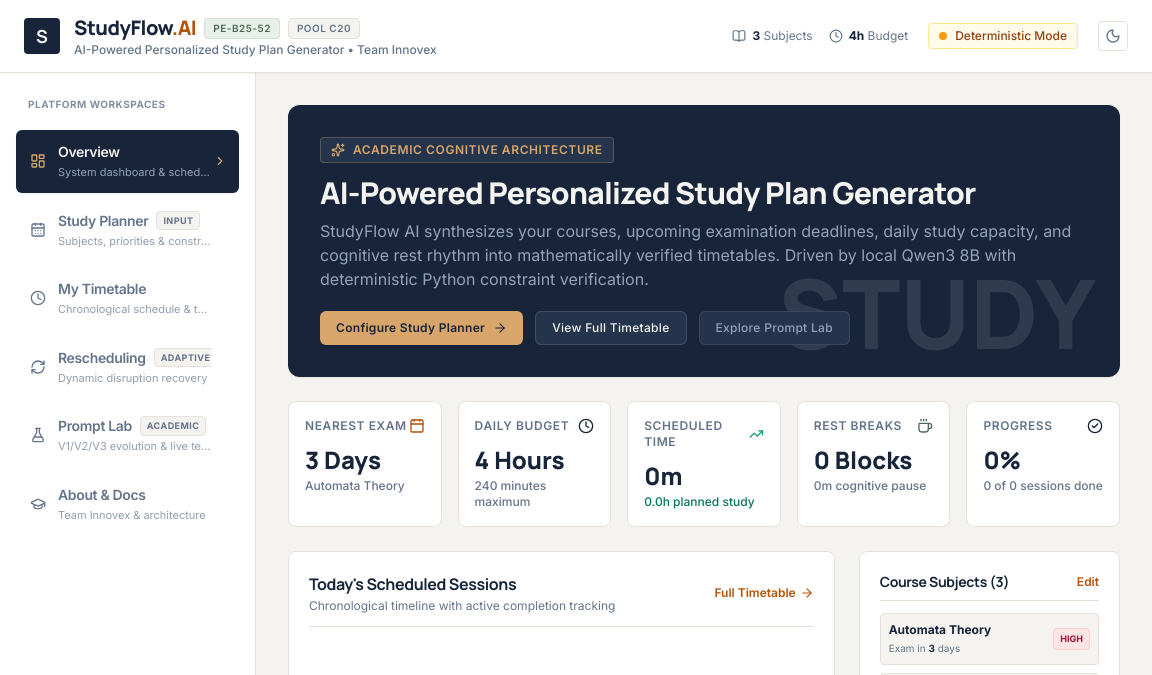
it: StudyFlow AI Application Workspaces Navigation › switches to About & Docs workspace on navigation click
Click the text "About & Docs" at [102, 494], box [58,484,146,504]
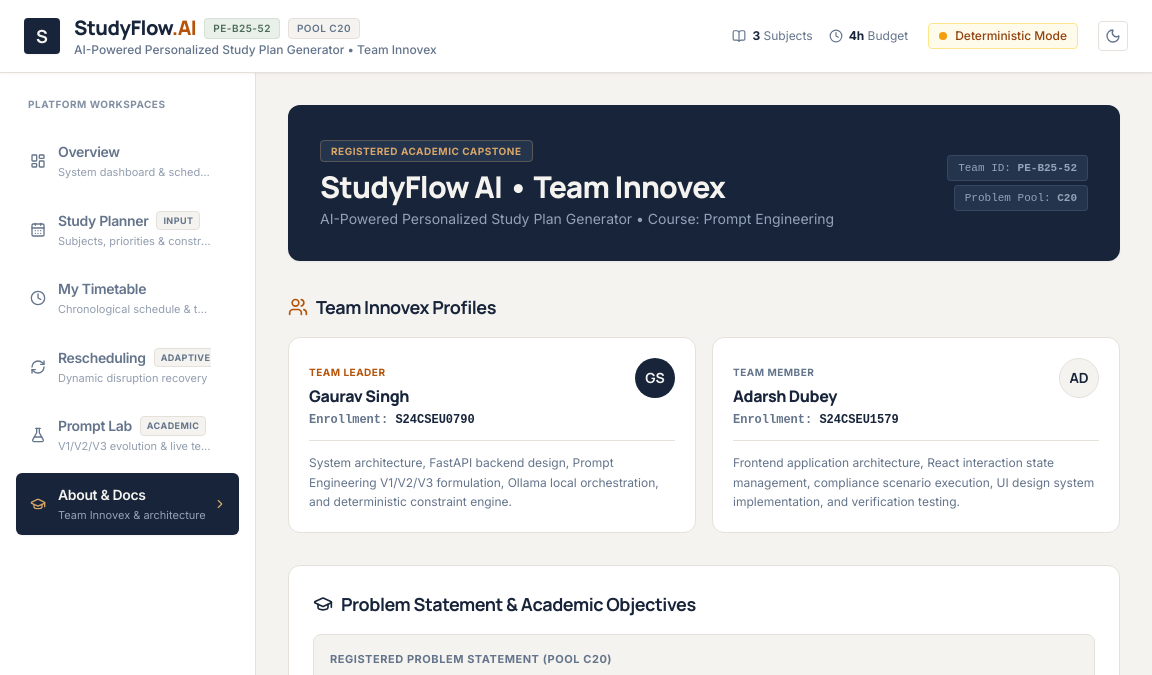
Check: the heading "Gaurav Singh" is shown, box [309,385,409,407]
Check: the text "S24CSEU0790" is shown, box [395,413,475,427]
Check: the heading "Adarsh Dubey" is shown, box [733,385,837,407]
